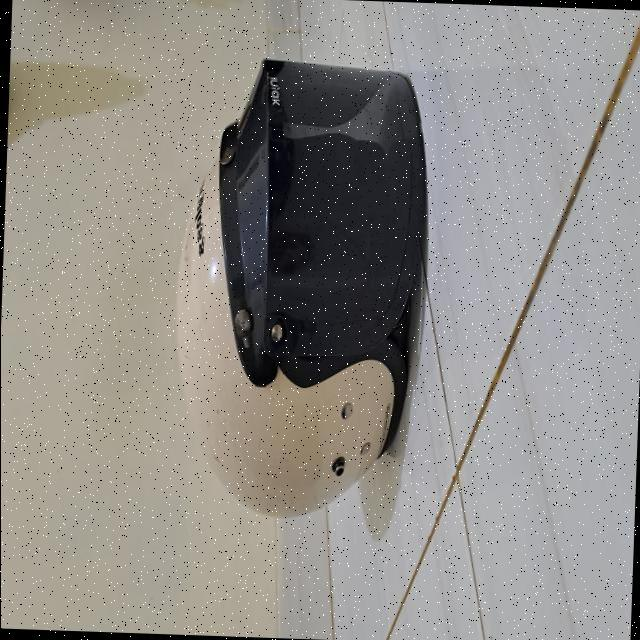Helm: (157, 35, 440, 522)
